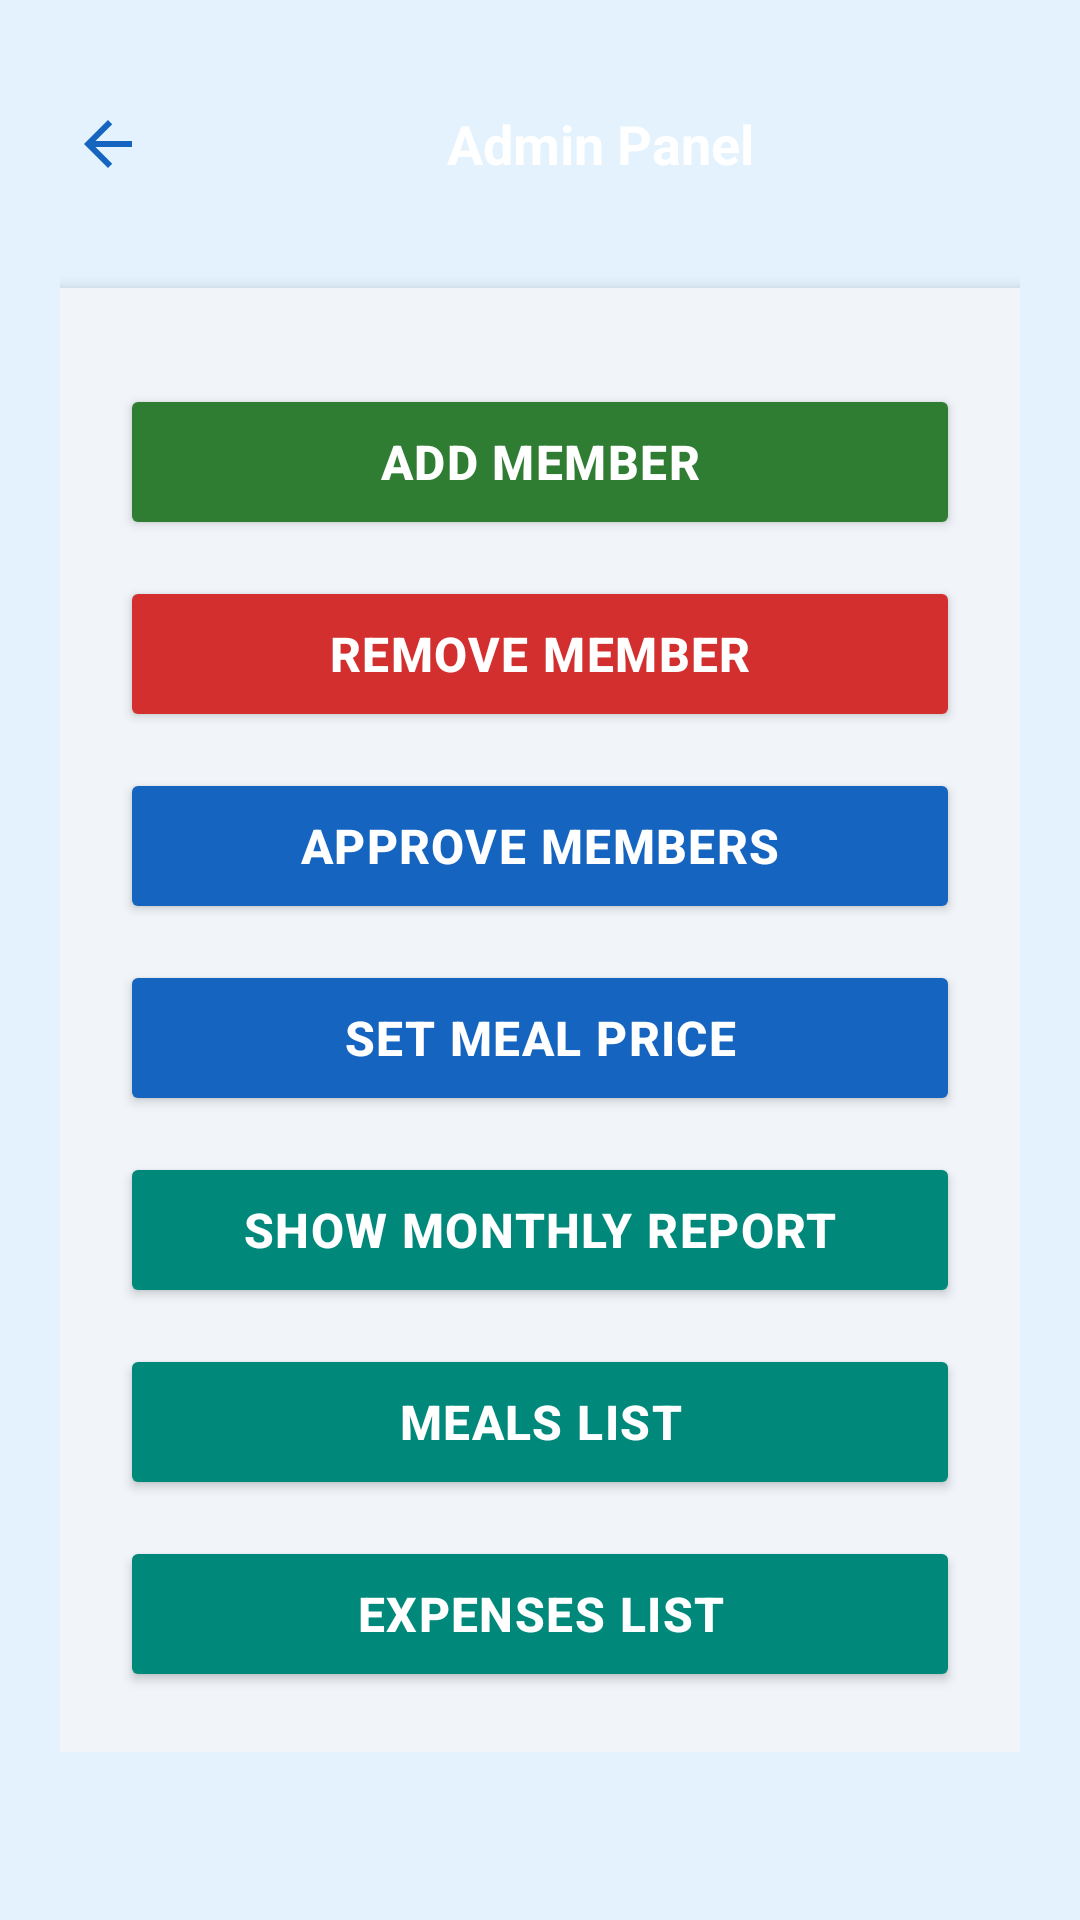

Icon bounding boxes for this 1080x1920 phone screenshot, format {"left": x1, "top": y1, "right": x2, "bottom": y2}:
arrow back: {"left": 84, "top": 120, "right": 132, "bottom": 168}
